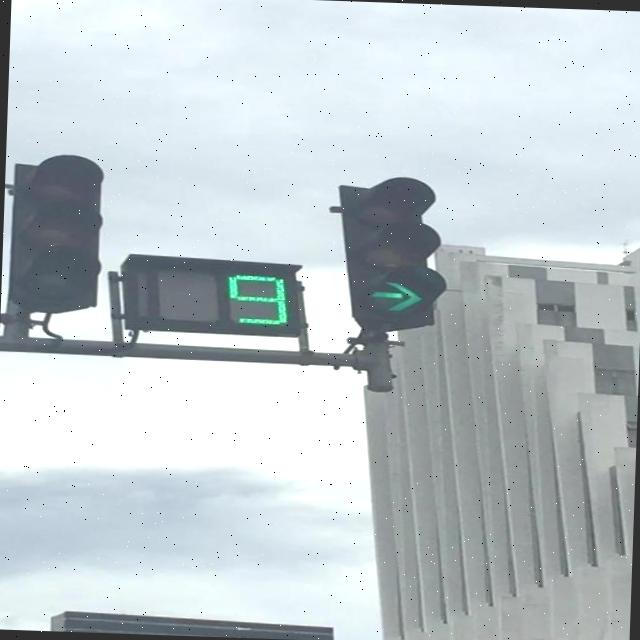green_light: (332, 174, 451, 330)
